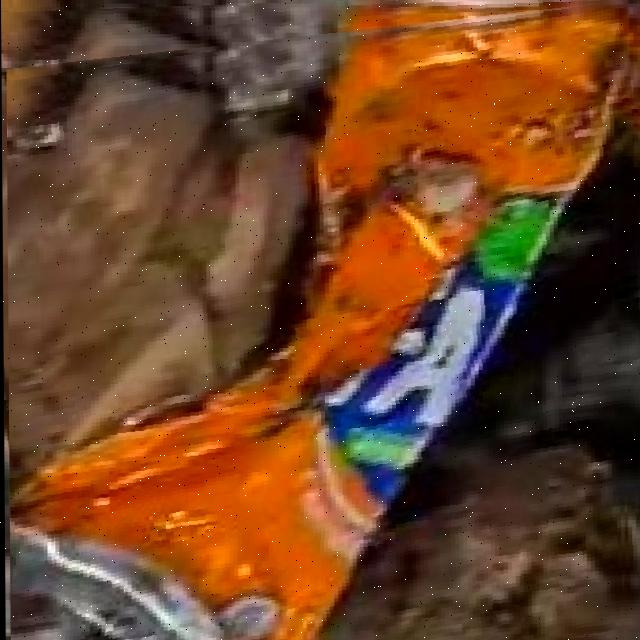litter: (8, 6, 627, 640)
